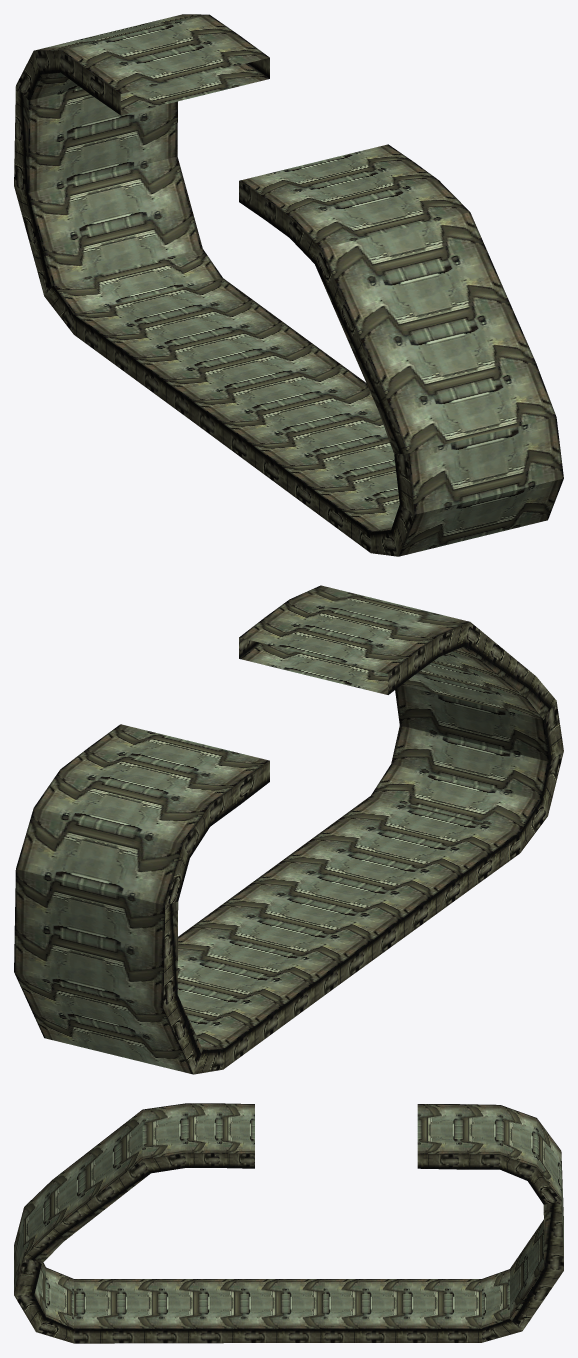
File: VUHTNKH_TRAC_L.obj
3 renders of one model, top to bottom at view 1: azimuth 30°, elevation 25°; view 2: azimuth 150°, elevation 25°; view 3: azimuth 270°, elevation 25°, orthographic. The views are drawn at different scales.
Visible parts, largest first — view 1: Node 0; view 2: Node 0; view 3: Node 0.
Boxes of the visible parts, bbox=[...] form: Node 0: bbox=[14, 14, 563, 556]; Node 0: bbox=[14, 585, 563, 1074]; Node 0: bbox=[14, 1103, 563, 1343].
Bounding box in the file's own units: 1.4 × 2.48 × 6.5.
1 material, 1 textured.
